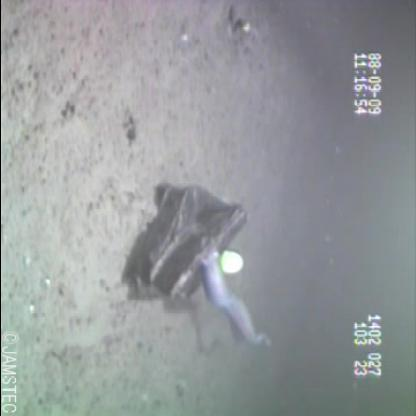Bio: (194, 247, 280, 352)
Rác: (117, 177, 253, 306)
